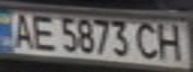3: (109, 18, 133, 57)
5: (54, 15, 78, 53)
7: (90, 16, 112, 55)
8: (72, 16, 93, 54)
A: (6, 11, 39, 50)
C: (133, 20, 163, 61)
E: (27, 11, 57, 52)
H: (154, 20, 190, 62)
